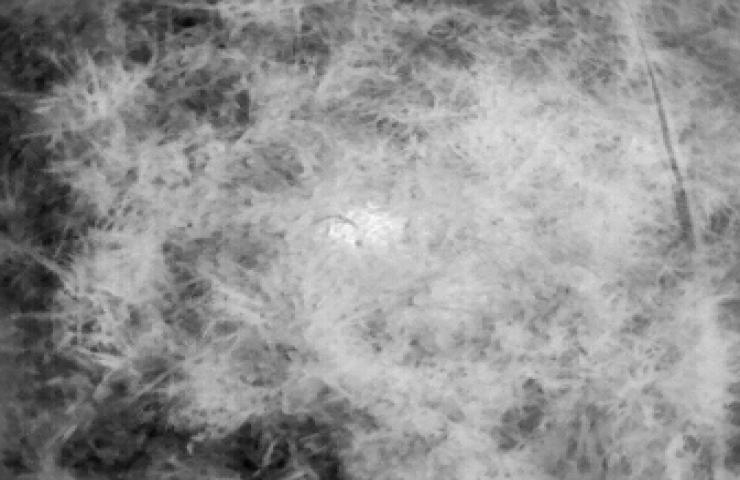landmines: (322, 201, 416, 257)
